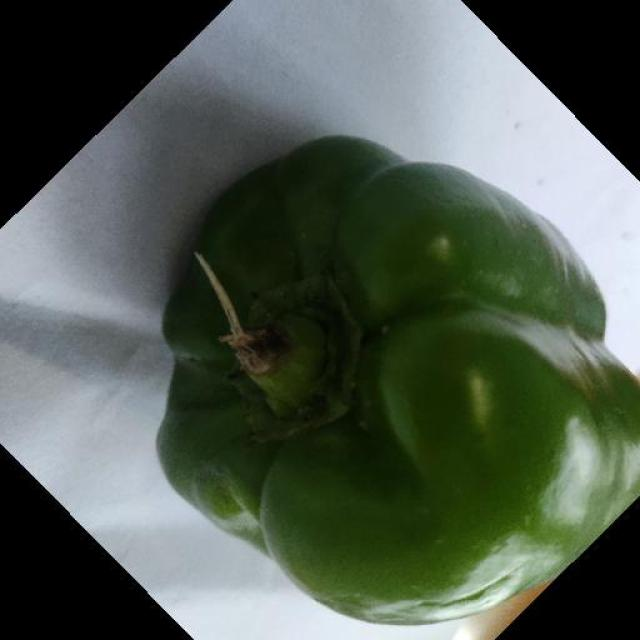Fresh_Capsicum: (196, 181, 599, 492)
